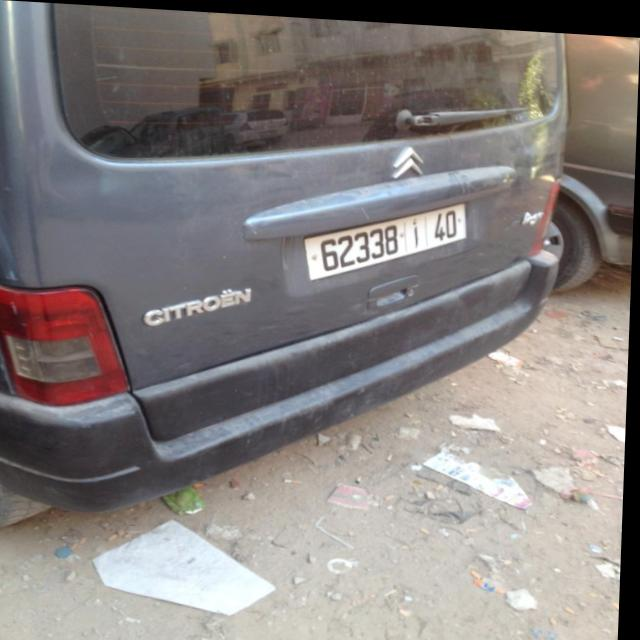License-Plate: (307, 198, 466, 276)
